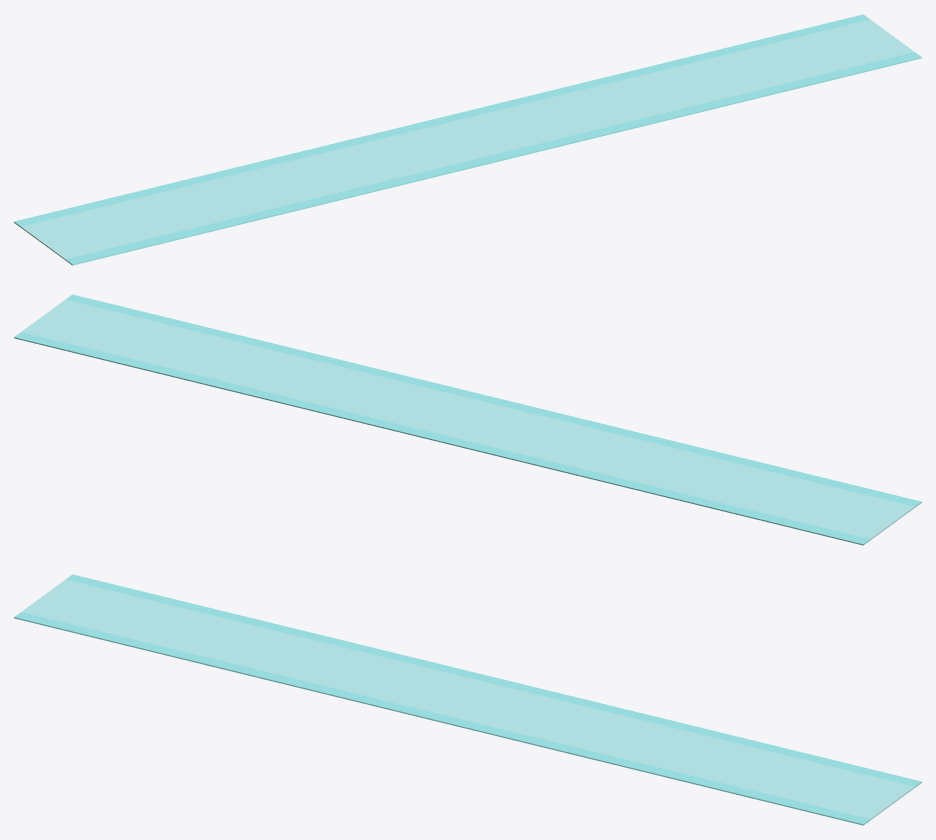
The model's file is Level 180 roll ring light.fbx.
3 views of the same model, one above another, from view 1: azimuth 30°, elevation 25°; view 2: azimuth 150°, elevation 25°; view 3: azimuth 330°, elevation 25° (orthographic).
Visible parts, largest first — view 1: Blend; view 2: Blend; view 3: Blend.
Part boxes in pixels (x1,y1,x2,y2): Blend: (14,14,921,265); Blend: (14,294,921,545); Blend: (14,574,921,825).
Size of what is drawn, in the model's own units: 776 by 1 by 92.7.
